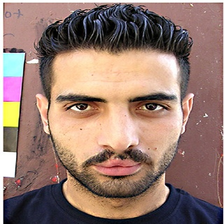no_mask: (47, 52, 182, 192)
